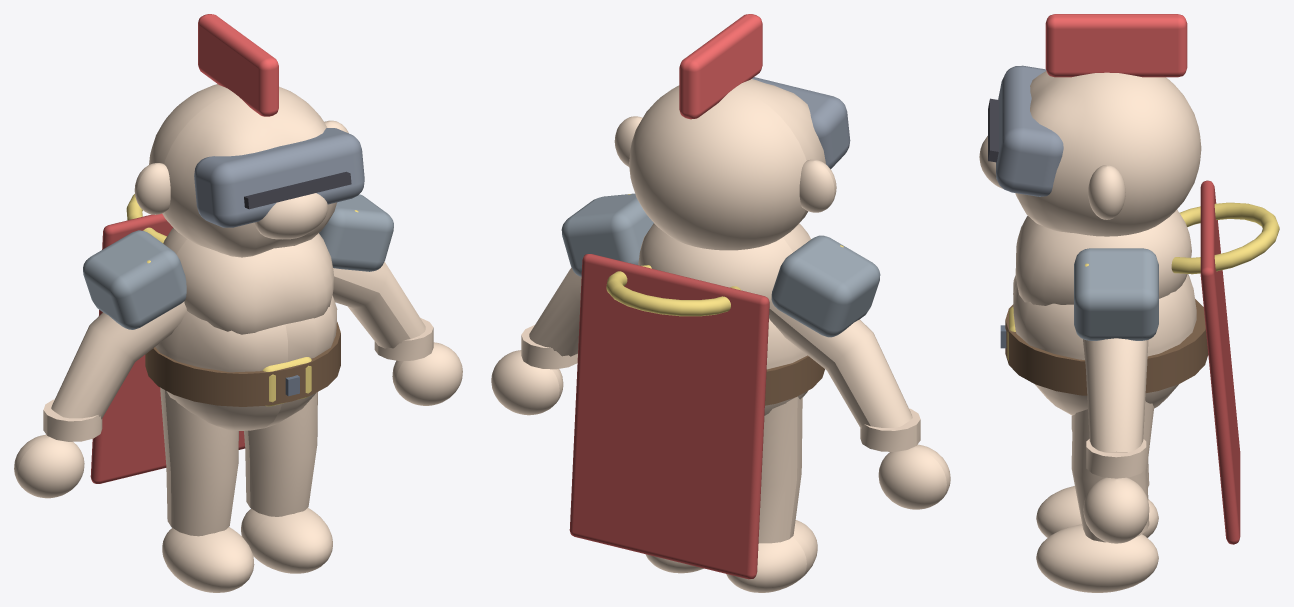
The model's file is cyber_knight.glb.
The picture shows the model from 3 angles, left to right: view 1: azimuth 30°, elevation 25°; view 2: azimuth 150°, elevation 25°; view 3: azimuth 270°, elevation 25°; orthographic projection. The views are drawn at different scales.
Parts seen in each view (by area): view 1: chibi_knight, knight_visor, knight_cape, pauldron_right, belt_strap, helmet_crest, pauldron_left, visor_slit, belt_buckle; view 2: chibi_knight, knight_cape, pauldron_right, helmet_crest, pauldron_left, knight_visor, cape_clasp, belt_strap; view 3: chibi_knight, helmet_crest, pauldron_left, knight_cape, knight_visor, belt_strap, cape_clasp, visor_slit.
Boxes of the visible parts, x1=… form: chibi_knight: x1=14, y1=84, x2=462, y2=592; knight_visor: x1=194, y1=128, x2=364, y2=227; knight_cape: x1=90, y1=213, x2=245, y2=483; pauldron_right: x1=83, y1=230, x2=186, y2=329; belt_strap: x1=145, y1=322, x2=340, y2=406; helmet_crest: x1=198, y1=14, x2=278, y2=116; pauldron_left: x1=319, y1=194, x2=393, y2=271; visor_slit: x1=244, y1=171, x2=351, y2=209; belt_buckle: x1=262, y1=357, x2=311, y2=406; chibi_knight: x1=491, y1=79, x2=950, y2=592; knight_cape: x1=569, y1=254, x2=769, y2=579; pauldron_right: x1=771, y1=235, x2=880, y2=337; helmet_crest: x1=679, y1=14, x2=762, y2=119; pauldron_left: x1=561, y1=193, x2=653, y2=276; knight_visor: x1=752, y1=77, x2=850, y2=169; cape_clasp: x1=606, y1=265, x2=740, y2=316; belt_strap: x1=765, y1=355, x2=824, y2=405; chibi_knight: x1=979, y1=71, x2=1201, y2=592; helmet_crest: x1=1045, y1=14, x2=1187, y2=77; pauldron_left: x1=1074, y1=248, x2=1158, y2=340; knight_cape: x1=1200, y1=180, x2=1240, y2=544; knight_visor: x1=996, y1=65, x2=1063, y2=196; belt_strap: x1=1005, y1=299, x2=1208, y2=395; cape_clasp: x1=1171, y1=202, x2=1279, y2=274; visor_slit: x1=988, y1=98, x2=998, y2=162.
Size of the model in its own units: 1.12 by 1.29 by 0.6354.
